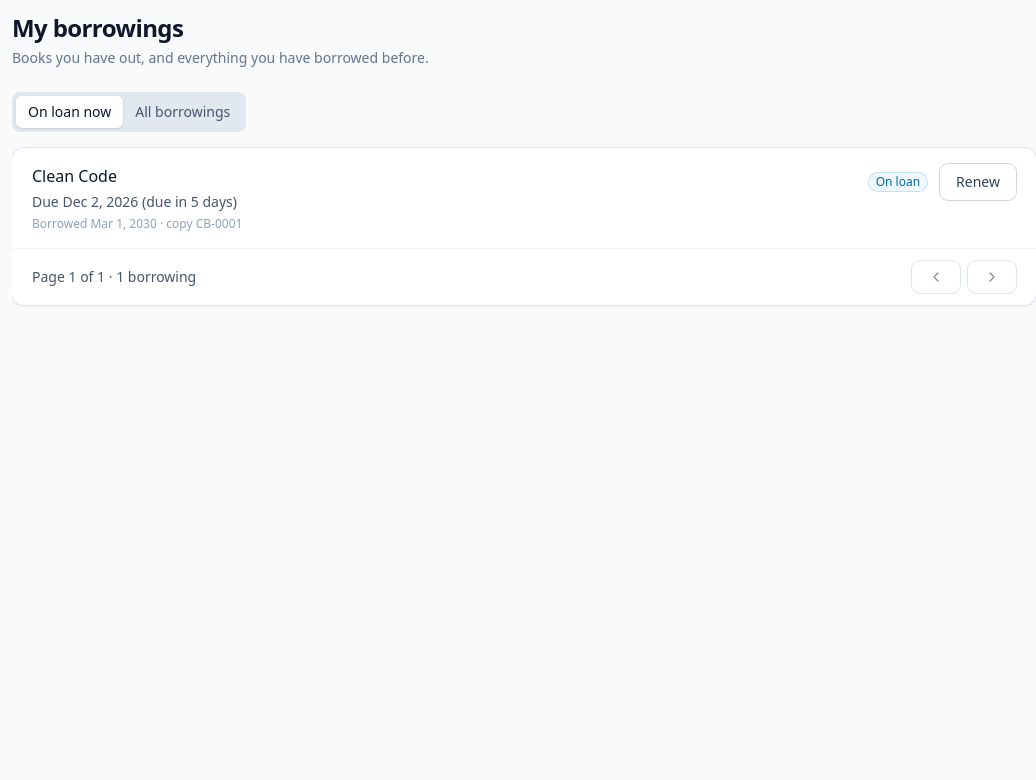
MyBorrowingsPage › shows the librarys reason when a renewal is refused
Click the button with aria-label "Renew Clean Code".
click(978, 182)  # box [940,164,1016,200]
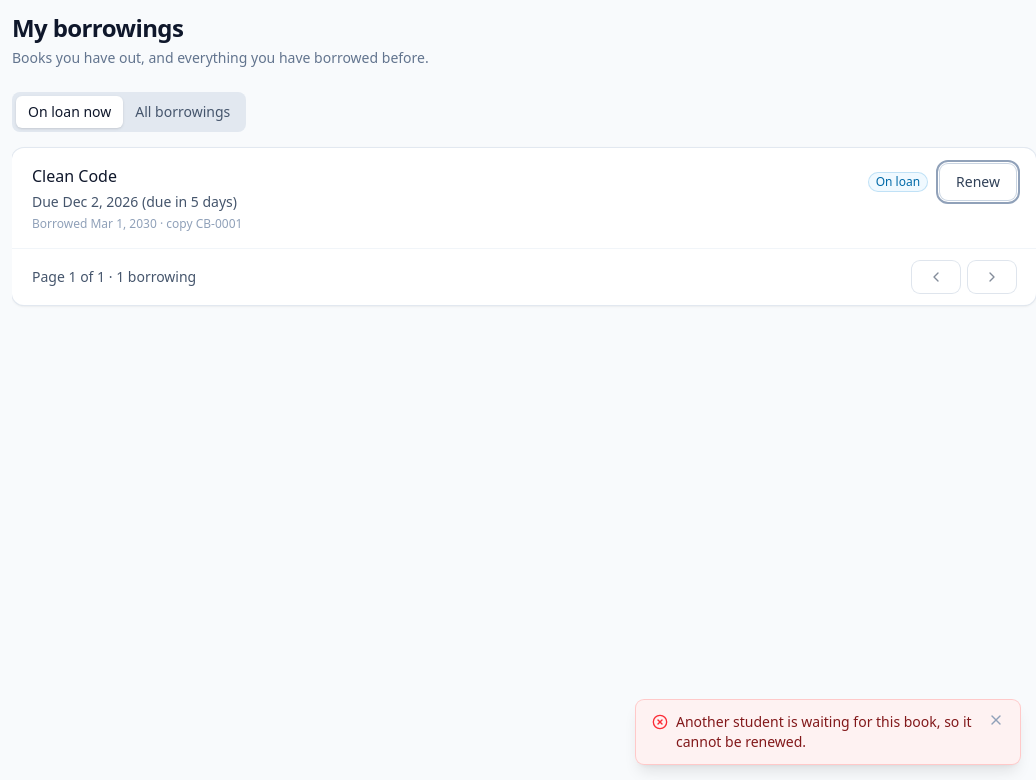
Expected: the text "Another student is waiting for this book, so it cannot be renewed." is shown, [676,712,980,752]
